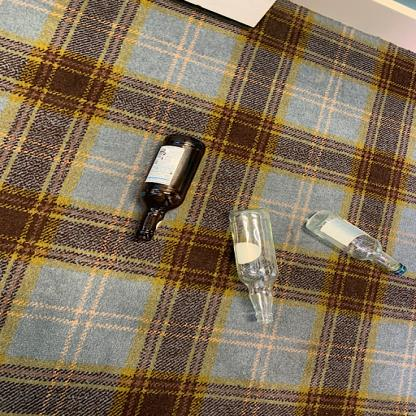trash: (134, 131, 206, 245), (304, 210, 408, 280), (225, 207, 284, 325)
